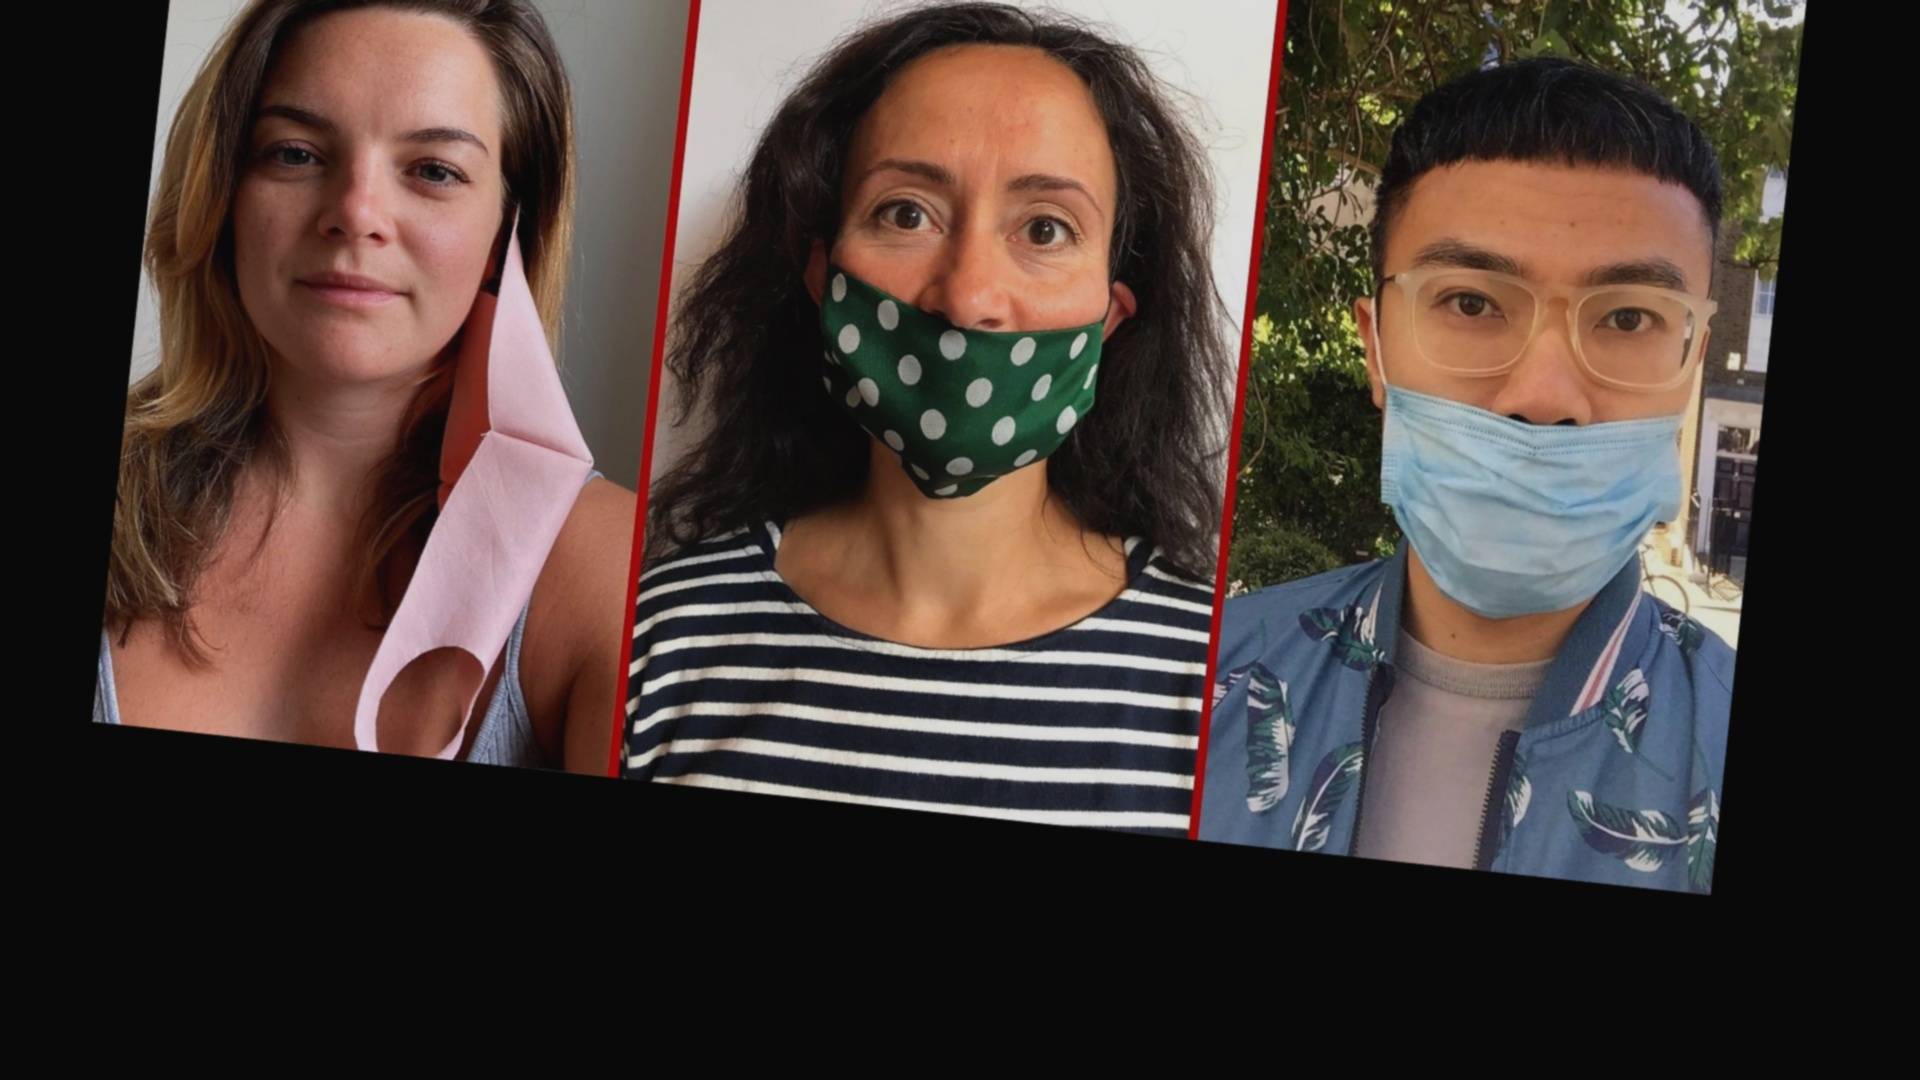mask_weared_incorrect: (1393, 121, 1702, 623), (812, 23, 1128, 512)
without_mask: (207, 7, 500, 372)
